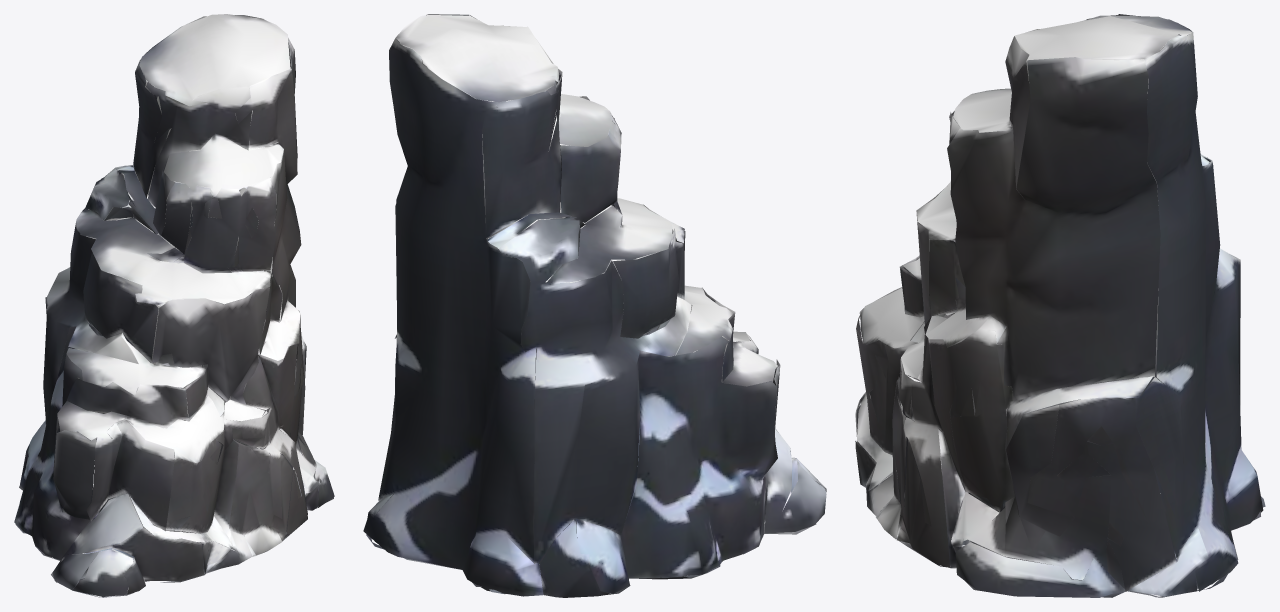
File: cliff_gen_c.glb
The picture shows the model from 3 angles, left to right: view 1: azimuth 30°, elevation 25°; view 2: azimuth 150°, elevation 25°; view 3: azimuth 270°, elevation 25°; orthographic projection. The views are drawn at different scales.
Visible parts, largest first — view 1: cliff_gen.002; view 2: cliff_gen.002; view 3: cliff_gen.002.
Part boxes in pixels (left/top/right/bottom): cliff_gen.002: left=14, top=14, right=334, bottom=597; cliff_gen.002: left=363, top=14, right=826, bottom=597; cliff_gen.002: left=855, top=14, right=1265, bottom=597.
Bounding box in the file's own units: 8.9 × 12.06 × 8.34.
Materials: 1 (1 with a texture image).
